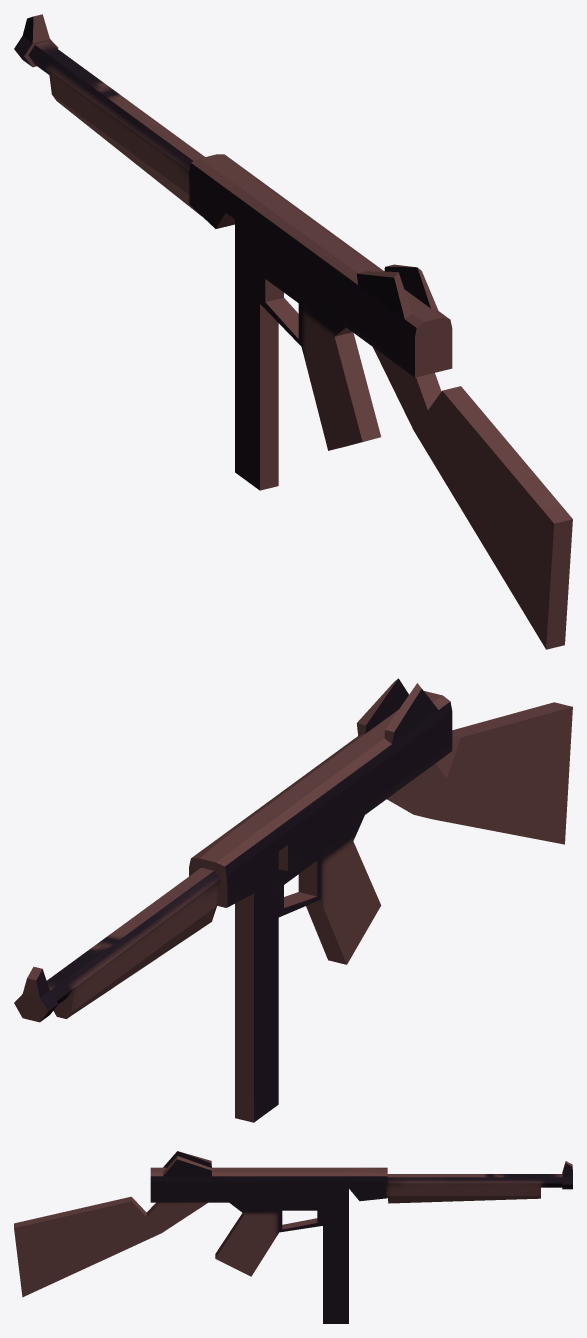
Rendered from test_gun.glb.
The picture shows the model from 3 angles, top to bottom: view 1: azimuth 30°, elevation 25°; view 2: azimuth 150°, elevation 25°; view 3: azimuth 270°, elevation 25°; orthographic projection. The views are drawn at different scales.
Parts seen in each view (by area): view 1: Plane; view 2: Plane; view 3: Plane.
Part boxes in pixels (bbox=[...]): Plane: bbox=[14, 14, 572, 649]; Plane: bbox=[14, 678, 572, 1122]; Plane: bbox=[14, 1151, 572, 1323].
Bounding box in the file's own units: 0.1097 × 0.896 × 2.7.
1 material, 1 textured.
